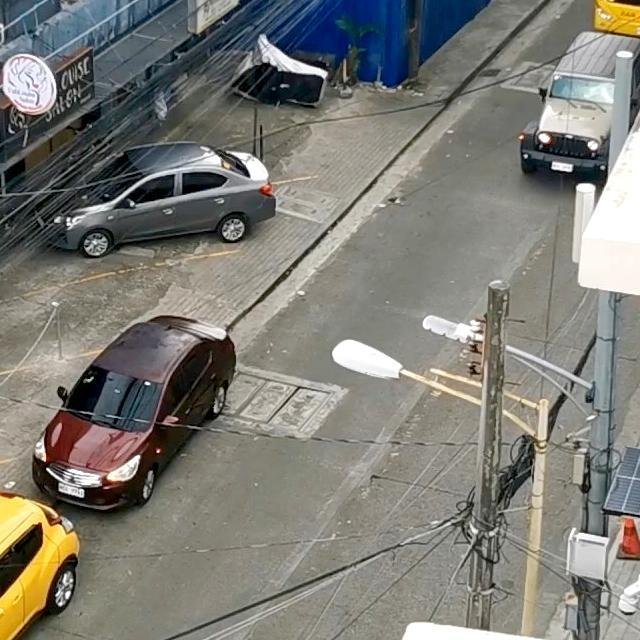Car: (14, 292, 260, 523), (12, 134, 300, 263), (484, 22, 640, 197), (0, 463, 95, 640)
